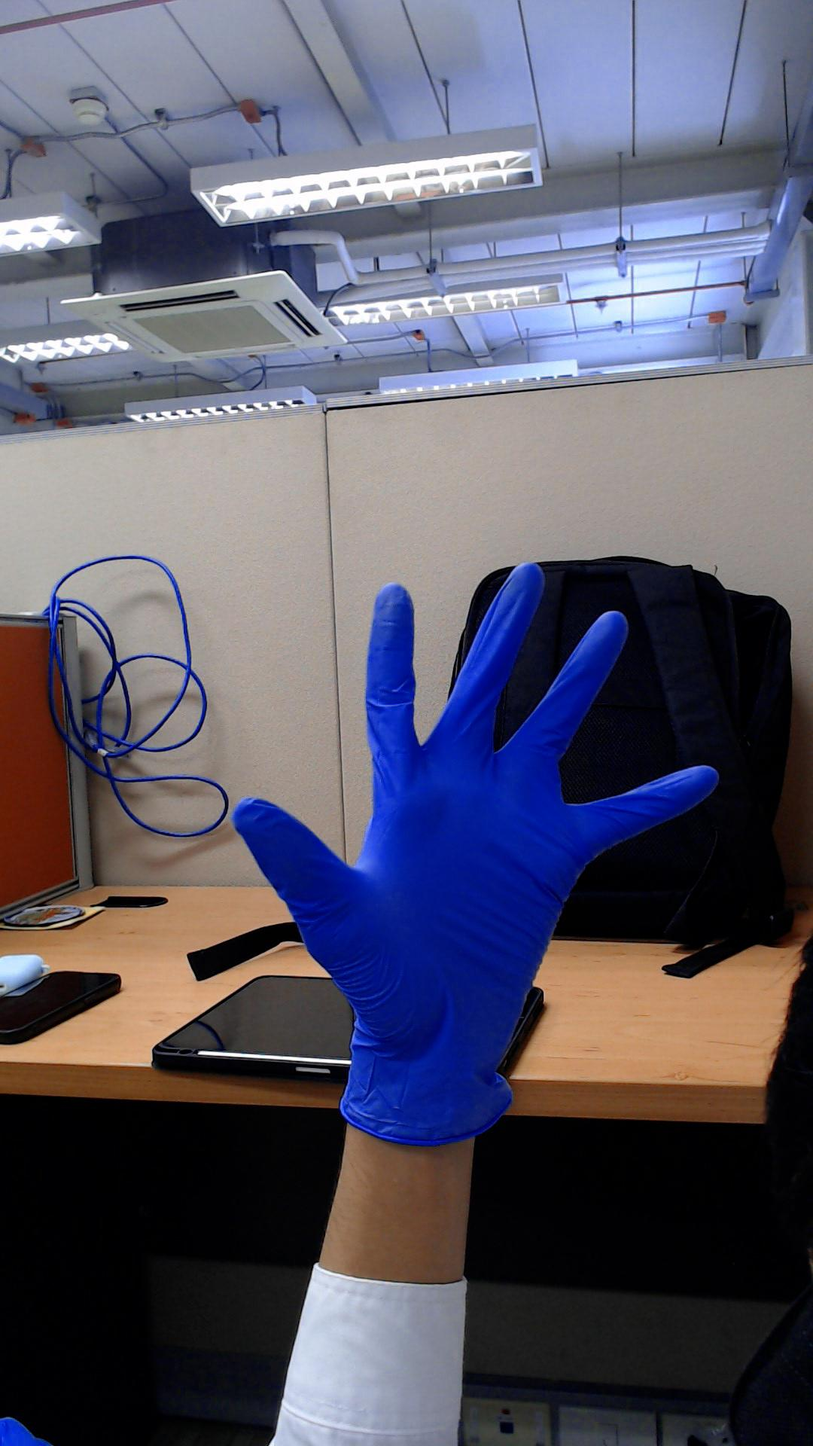gloves: (212, 525, 741, 985)
